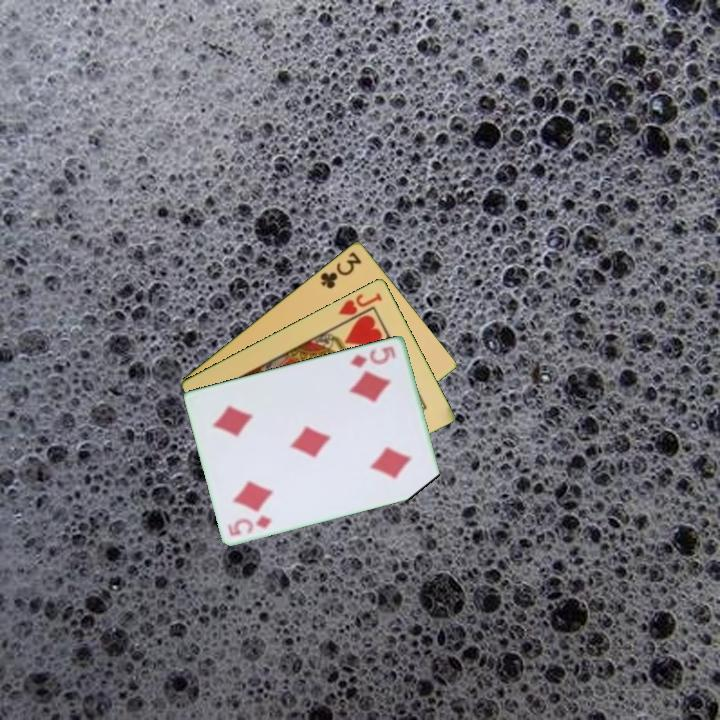3c: (317, 248, 365, 291)
5d: (346, 342, 399, 370), (224, 511, 275, 538)
Jh: (335, 289, 385, 326)
